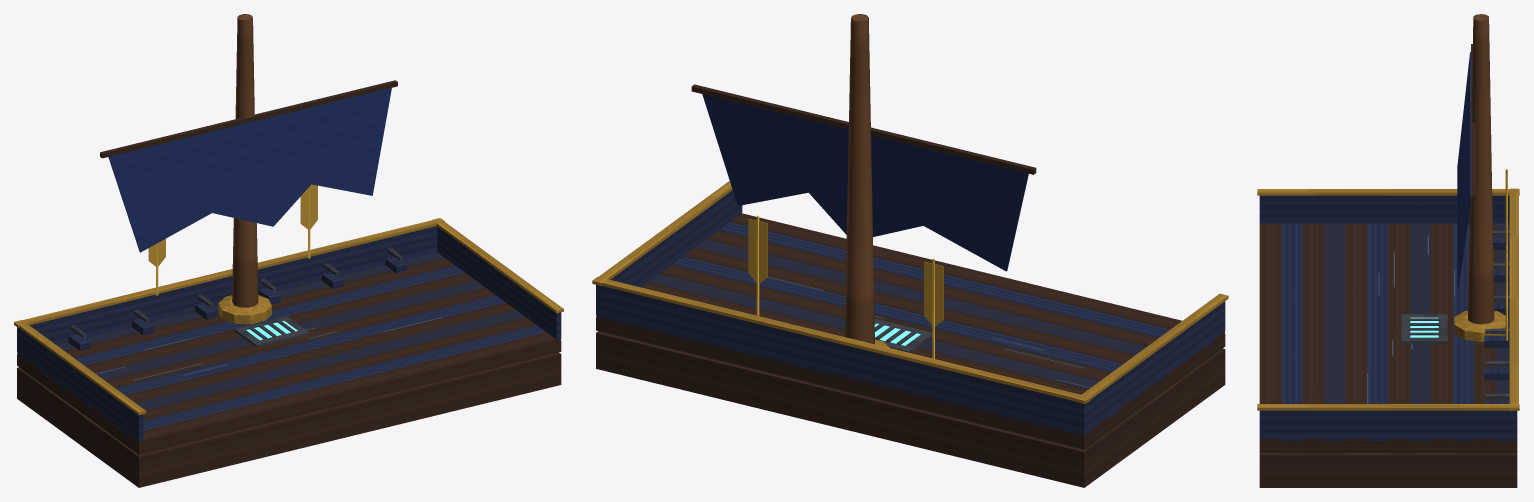
Rendered from SM_Env_DreadnoughtDeck_HQ.glb.
3 views of the same model, side by side, from view 1: azimuth 30°, elevation 25°; view 2: azimuth 150°, elevation 25°; view 3: azimuth 270°, elevation 25° (orthographic). The views are drawn at different scales.
Parts seen in each view (by area): view 1: SM_Env_DreadnoughtDeck_HQ; view 2: SM_Env_DreadnoughtDeck_HQ; view 3: SM_Env_DreadnoughtDeck_HQ.
Boxes of the visible parts, x1,y1,x2,y2 form: SM_Env_DreadnoughtDeck_HQ: (14,14,563,487); SM_Env_DreadnoughtDeck_HQ: (592,14,1228,487); SM_Env_DreadnoughtDeck_HQ: (1257,14,1519,487).
Bounding box in the file's own units: 20.2 × 15.5 × 10.2.
Materials: 1 (1 with a texture image).
